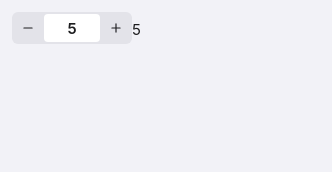
Scenario: Stepper › steps with buttons and arrow keys and stops at the bounds
Later steps or results of the test are not shown.
Click the button named "Increase Minimum" at (116, 28), box [100,12,132,44]
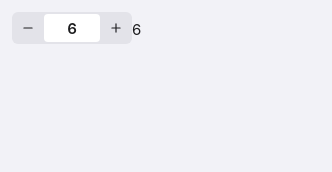
Result: the text with test id "value" reads "6" at [132,20,141,39]
Press ArrowDown in the number field named "Minimum", box [44,14,100,42]
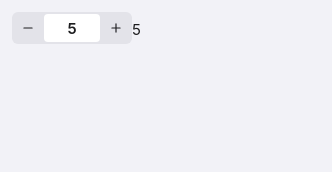
Press ArrowDown in the number field named "Minimum", box [44,14,100,42]
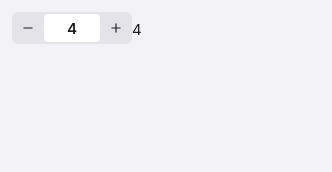
Result: the text with test id "value" reads "4" at [132,20,142,39]
